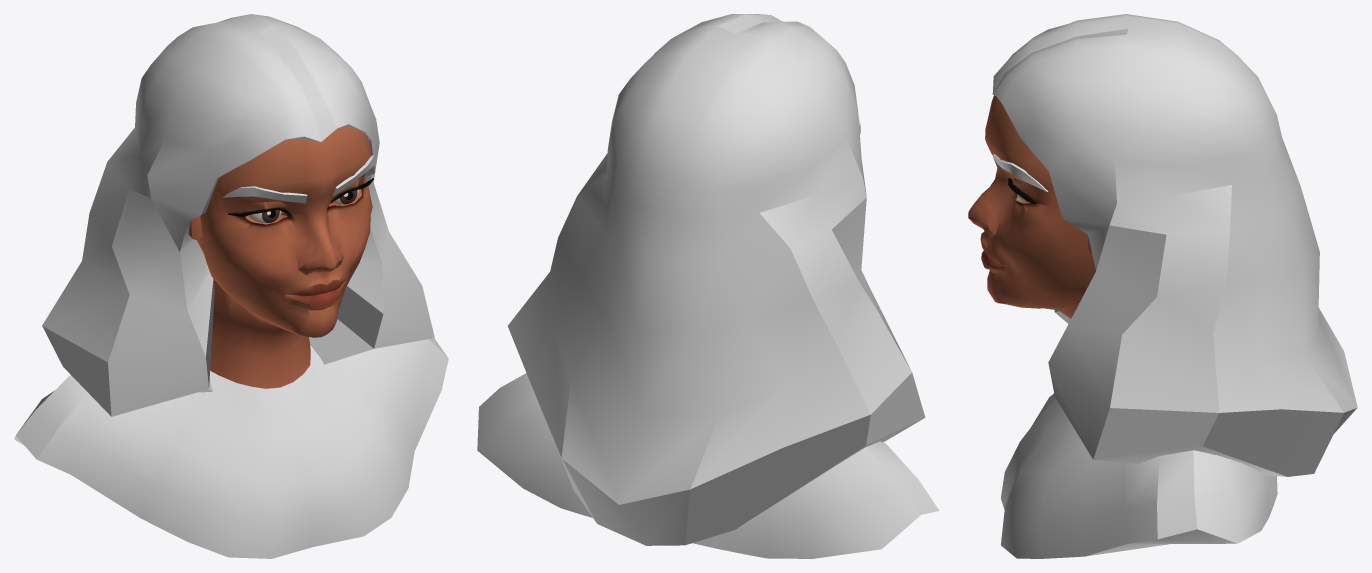
The model's file is Female_Avatar_2_New.fbx.
3 renders of one model, left to right at view 1: azimuth 30°, elevation 25°; view 2: azimuth 150°, elevation 25°; view 3: azimuth 270°, elevation 25°, orthographic. The views are drawn at different scales.
Visible parts, largest first — view 1: Hair.004, Shirt.004, Female Head.001, Eyes.002; view 2: Hair.004, Shirt.004; view 3: Hair.004, Shirt.004, Female Head.001.
Boxes of the visible parts, bbox=[...] form: Hair.004: bbox=[42, 14, 434, 416]; Shirt.004: bbox=[14, 338, 448, 558]; Female Head.001: bbox=[188, 126, 372, 388]; Eyes.002: bbox=[248, 189, 359, 222]; Hair.004: bbox=[508, 14, 925, 545]; Shirt.004: bbox=[477, 373, 939, 558]; Hair.004: bbox=[992, 14, 1357, 476]; Shirt.004: bbox=[1001, 393, 1277, 558]; Female Head.001: bbox=[968, 95, 1095, 318].
Size of the model in its own units: 44.59 by 48.81 by 34.59.
1 material, 1 textured.
